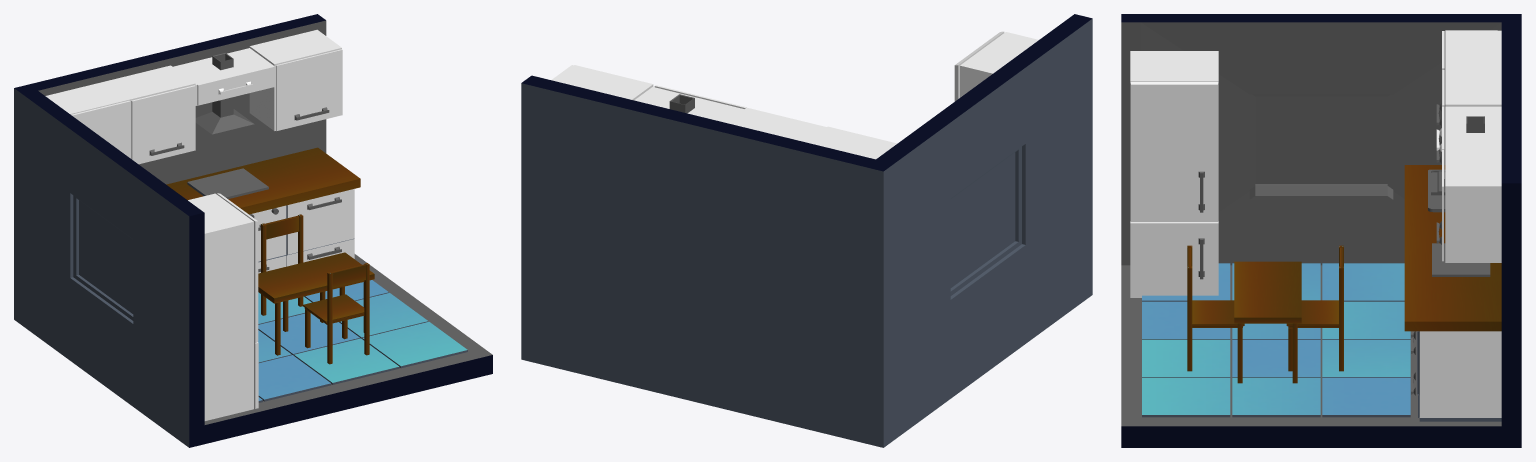
Rendered from kitchen.fbx.
3 renders of one model, left to right at view 1: azimuth 30°, elevation 25°; view 2: azimuth 150°, elevation 25°; view 3: azimuth 270°, elevation 25°, orthographic. The views are drawn at different scales.
Visible parts, largest first — view 1: Plane.002, Plane.014, Plane, Plane.023, Plane.046, Plane.032, Plane.042; view 2: Plane.002, Plane.014, Plane.023; view 3: Plane.002, Plane.023, Plane, Plane.014, Plane.046, Plane.042, Plane.032, Plane.020.
Boxes of the visible parts, bbox=[...] form: Plane.002: bbox=[14, 14, 492, 447]; Plane.014: bbox=[45, 29, 342, 164]; Plane: bbox=[166, 147, 360, 273]; Plane.023: bbox=[188, 193, 258, 420]; Plane.046: bbox=[258, 252, 374, 355]; Plane.032: bbox=[303, 263, 369, 364]; Plane.042: bbox=[261, 214, 325, 331]; Plane.002: bbox=[521, 14, 1092, 447]; Plane.014: bbox=[551, 65, 897, 159]; Plane.023: bbox=[954, 31, 1038, 101]; Plane.002: bbox=[1121, 14, 1521, 447]; Plane.023: bbox=[1130, 51, 1218, 297]; Plane: bbox=[1404, 165, 1501, 421]; Plane.014: bbox=[1436, 30, 1501, 262]; Plane.046: bbox=[1234, 261, 1301, 383]; Plane.042: bbox=[1286, 245, 1343, 371]; Plane.032: bbox=[1187, 245, 1244, 371]; Plane.020: bbox=[1428, 169, 1445, 212].
Size of the model in its own units: 544 by 397 by 544.
